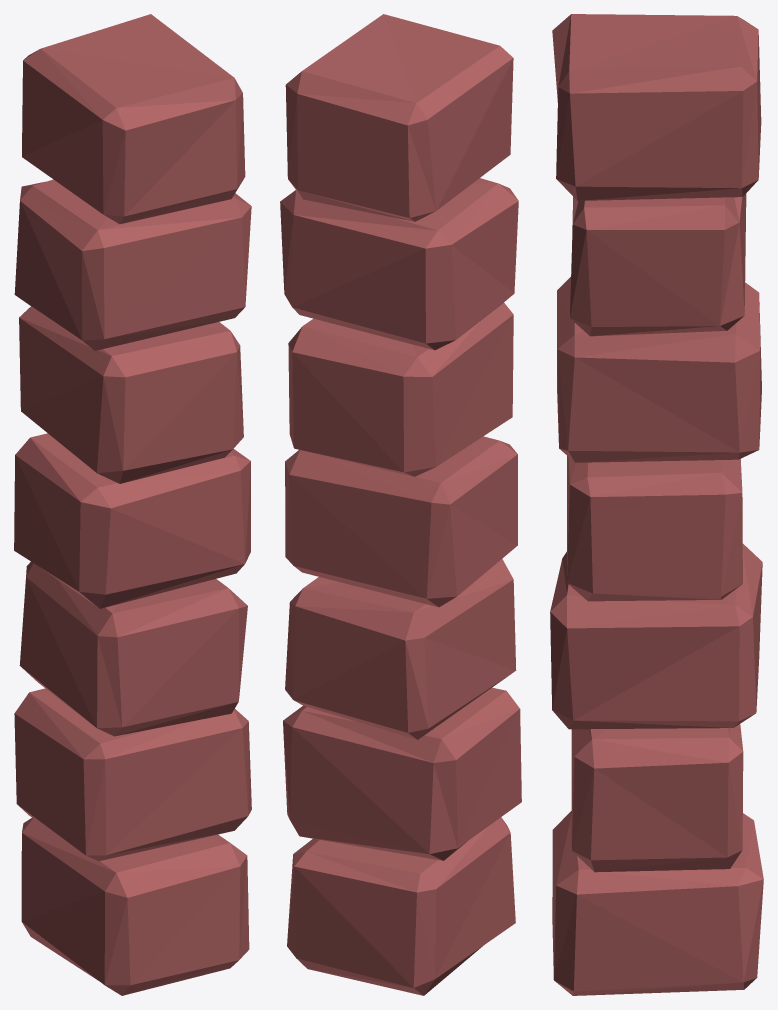
File: PKF_PKX_Corner_Quoin_v1.fbx
The picture shows the model from 3 angles, left to right: view 1: azimuth 30°, elevation 25°; view 2: azimuth 150°, elevation 25°; view 3: azimuth 270°, elevation 25°; orthographic projection. The views are drawn at different scales.
Visible parts, largest first — view 1: PKX_Corner_Quoin_Chunk_04, PKX_Corner_Quoin_Chunk_00, PKX_Corner_Quoin_Chunk_02, PKX_Corner_Quoin_Chunk_03, PKX_Corner_Quoin_Chunk_01; view 2: PKX_Corner_Quoin_Chunk_04, PKX_Corner_Quoin_Chunk_00, PKX_Corner_Quoin_Chunk_02, PKX_Corner_Quoin_Chunk_01, PKX_Corner_Quoin_Chunk_03; view 3: PKX_Corner_Quoin_Chunk_04, PKX_Corner_Quoin_Chunk_00, PKX_Corner_Quoin_Chunk_01, PKX_Corner_Quoin_Chunk_03, PKX_Corner_Quoin_Chunk_02.
Boxes of the visible parts, x1=… form: PKX_Corner_Quoin_Chunk_04: x1=14, y1=14, x2=251, y2=350; PKX_Corner_Quoin_Chunk_00: x1=14, y1=688, x2=251, y2=995; PKX_Corner_Quoin_Chunk_02: x1=14, y1=433, x2=250, y2=608; PKX_Corner_Quoin_Chunk_03: x1=19, y1=306, x2=243, y2=483; PKX_Corner_Quoin_Chunk_01: x1=19, y1=561, x2=247, y2=736; PKX_Corner_Quoin_Chunk_04: x1=280, y1=14, x2=518, y2=350; PKX_Corner_Quoin_Chunk_00: x1=283, y1=687, x2=521, y2=995; PKX_Corner_Quoin_Chunk_02: x1=285, y1=436, x2=517, y2=607; PKX_Corner_Quoin_Chunk_01: x1=285, y1=559, x2=516, y2=739; PKX_Corner_Quoin_Chunk_03: x1=288, y1=302, x2=513, y2=476; PKX_Corner_Quoin_Chunk_04: x1=552, y1=14, x2=761, y2=336; PKX_Corner_Quoin_Chunk_00: x1=552, y1=724, x2=763, y2=995; PKX_Corner_Quoin_Chunk_01: x1=550, y1=543, x2=762, y2=729; PKX_Corner_Quoin_Chunk_03: x1=557, y1=277, x2=761, y2=462; PKX_Corner_Quoin_Chunk_02: x1=567, y1=456, x2=742, y2=601.
Bounding box in the file's own units: 41.72 × 204 × 42.43.
